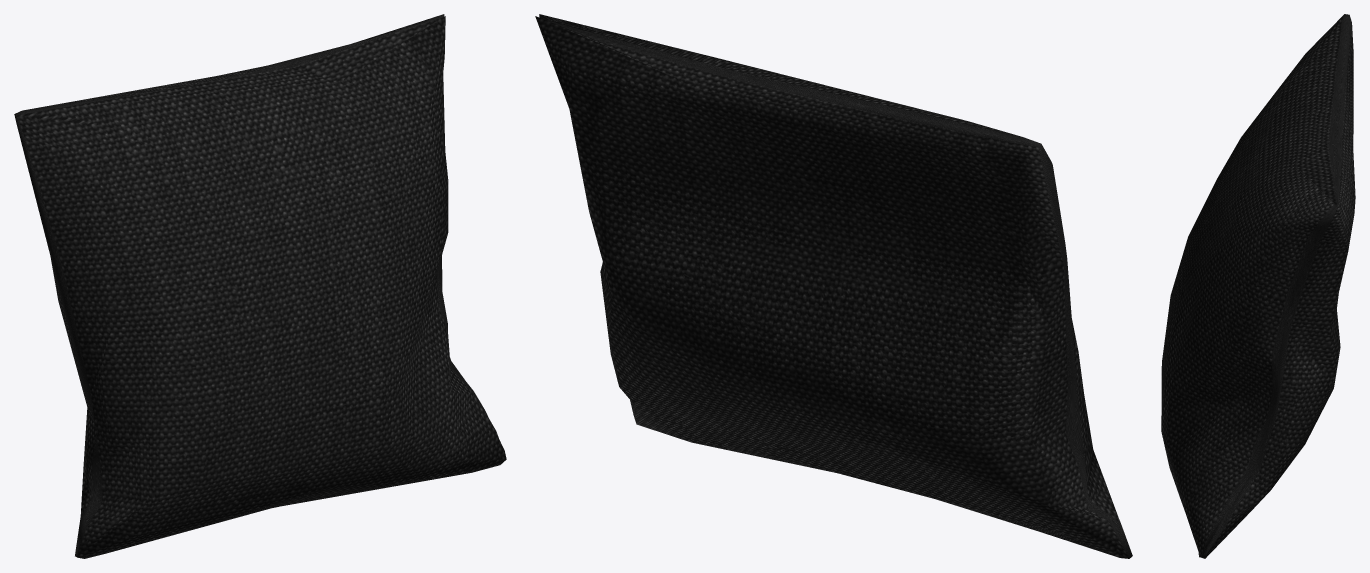
File: Pillow 1.FBX
The picture shows the model from 3 angles, left to right: view 1: azimuth 30°, elevation 25°; view 2: azimuth 150°, elevation 25°; view 3: azimuth 270°, elevation 25°; orthographic projection. The views are drawn at different scales.
Parts seen in each view (by area): view 1: Pillow 1; view 2: Pillow 1; view 3: Pillow 1.
Boxes of the visible parts, x1,y1,x2,y2 form: Pillow 1: (14, 14, 506, 558); Pillow 1: (535, 14, 1132, 558); Pillow 1: (1161, 14, 1355, 558).
Size of the model in its own units: 50.39 by 43.96 by 21.25.
Materials: 1 (1 with a texture image).
